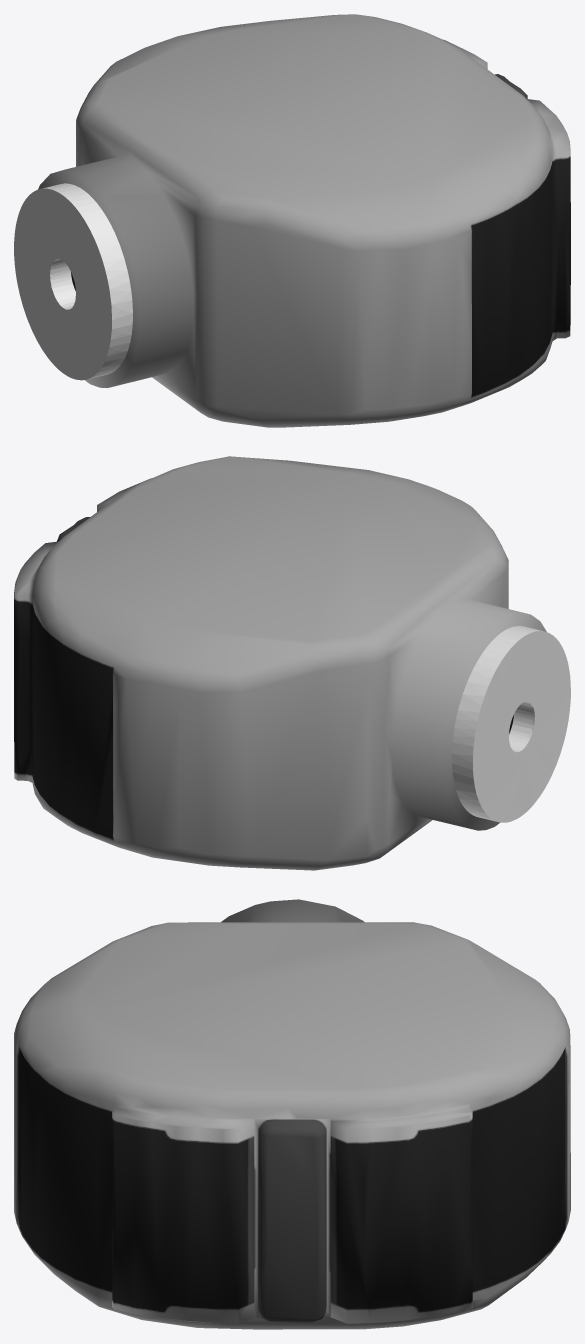
The model's file is wrist_roll.dae.
3 renders of one model, top to bottom at view 1: azimuth 30°, elevation 25°; view 2: azimuth 150°, elevation 25°; view 3: azimuth 270°, elevation 25°, orthographic. The views are drawn at different scales.
Visible parts, largest first — view 1: gripper_palm_link, Wrist_Roll; view 2: gripper_palm_link, Wrist_Roll; view 3: gripper_palm_link.
Part boxes in pixels (box(x1,y1,x2,y2)): gripper_palm_link: box(38, 14, 570, 427); Wrist_Roll: box(14, 183, 132, 380); gripper_palm_link: box(14, 456, 546, 870); Wrist_Roll: box(452, 626, 570, 822); gripper_palm_link: box(14, 899, 570, 1329).
Size of the model in its own units: 0.1008 by 0.102 by 0.0485.
1 material, 1 textured.
